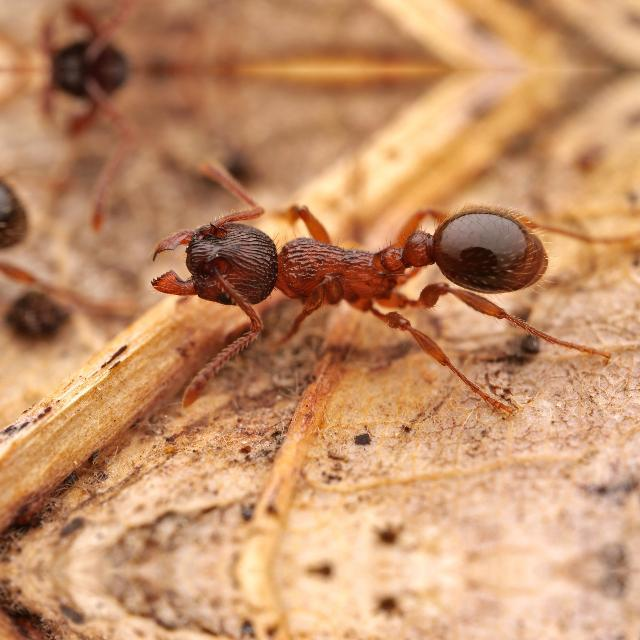Myrmica: (130, 153, 602, 379), (0, 136, 74, 394), (19, 69, 147, 209), (19, 0, 147, 68)
